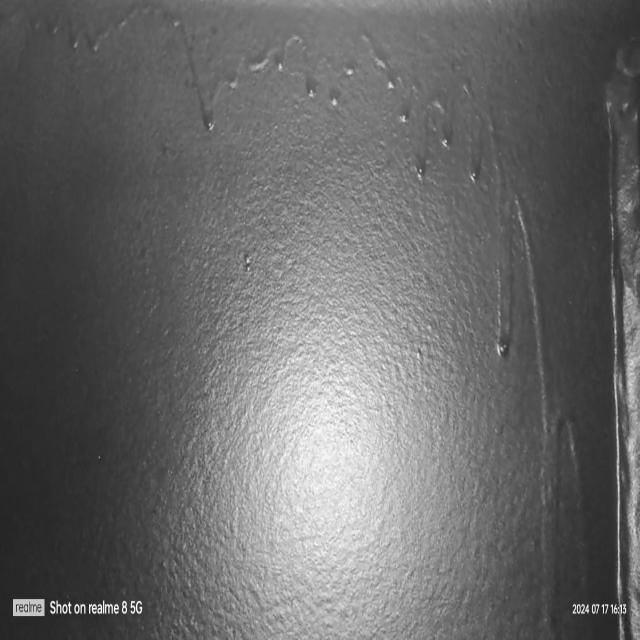paint drips: (19, 0, 489, 201), (482, 109, 610, 640)
